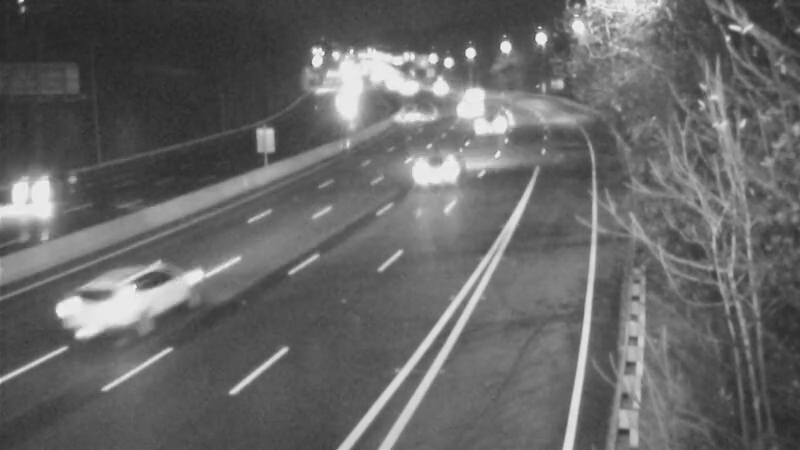vehicle: (37, 259, 147, 369), (395, 137, 475, 217), (1, 156, 75, 236), (414, 61, 464, 111), (444, 64, 494, 114), (440, 83, 490, 133), (376, 92, 426, 142), (460, 100, 510, 150)
